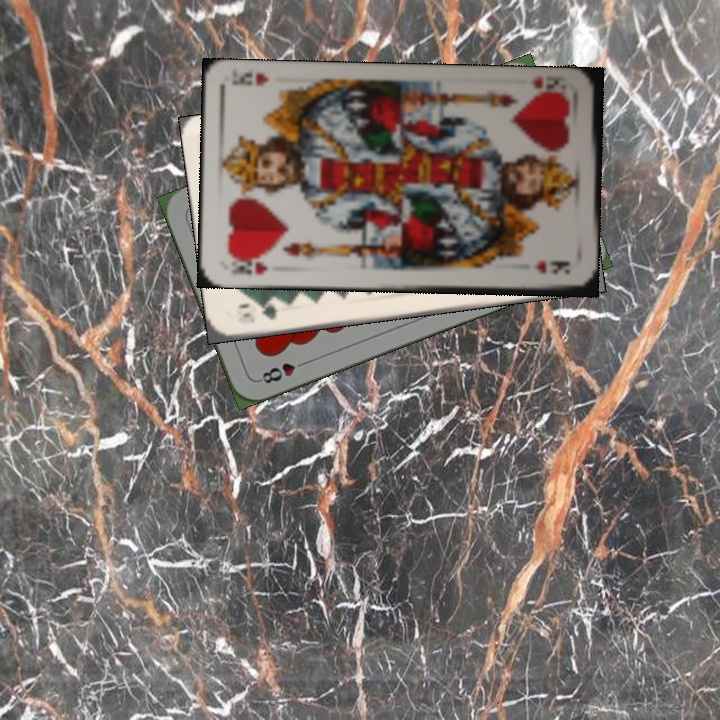G10: (239, 300, 280, 322)
H8: (254, 356, 311, 386)
HK: (526, 74, 572, 101), (228, 252, 270, 278)
